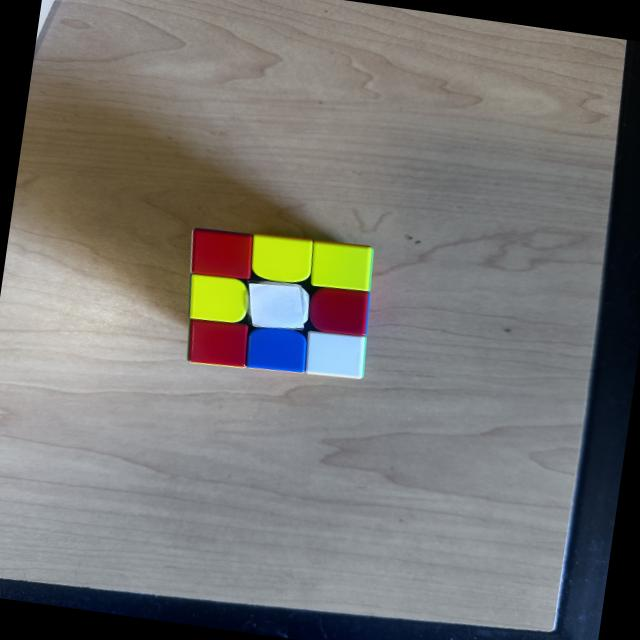sticker: (185, 225, 258, 284), (241, 277, 315, 335), (181, 315, 252, 372), (246, 231, 316, 288), (305, 282, 374, 339), (308, 238, 377, 295), (184, 272, 252, 328), (301, 328, 371, 382), (244, 323, 312, 376)
